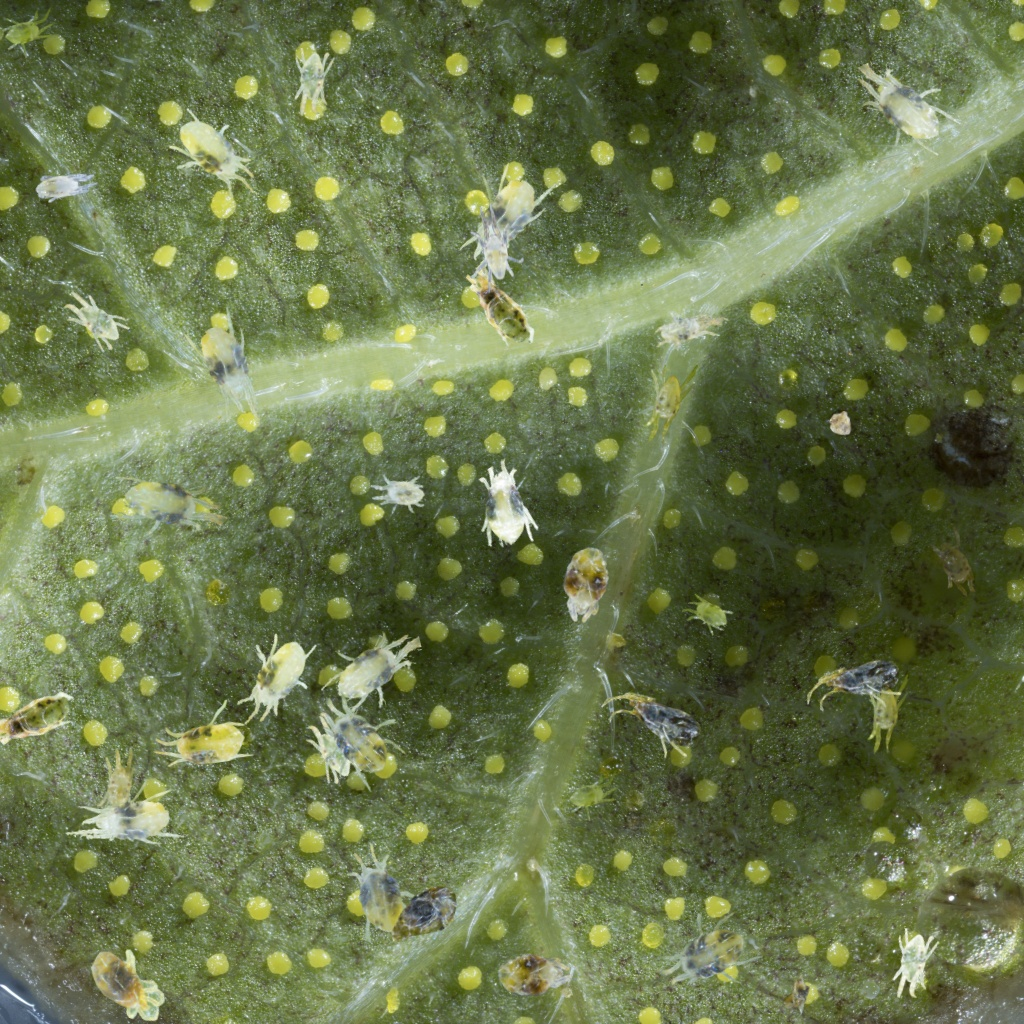Adult_female: (423, 140, 570, 284), (92, 435, 239, 577), (840, 35, 974, 179), (291, 672, 422, 807), (643, 896, 772, 1017), (214, 619, 338, 732), (310, 618, 435, 727), (317, 838, 432, 953), (171, 302, 264, 438), (158, 93, 262, 214), (452, 454, 559, 564), (64, 767, 194, 854), (147, 696, 256, 772)
Adult_male: (913, 520, 1000, 605), (54, 280, 133, 356), (298, 708, 366, 788), (642, 357, 699, 447), (469, 203, 525, 294), (651, 301, 731, 363), (860, 670, 917, 756), (883, 927, 941, 1004), (353, 860, 412, 928), (93, 746, 139, 828), (561, 768, 627, 825), (367, 466, 430, 523), (287, 47, 336, 120), (679, 588, 736, 640), (33, 168, 99, 206)
Dead_mite: (448, 260, 551, 358), (799, 646, 911, 736), (592, 685, 707, 765), (78, 938, 179, 1024), (492, 935, 576, 1011), (552, 543, 622, 627), (389, 876, 461, 955), (780, 970, 816, 1016), (827, 409, 853, 436)
